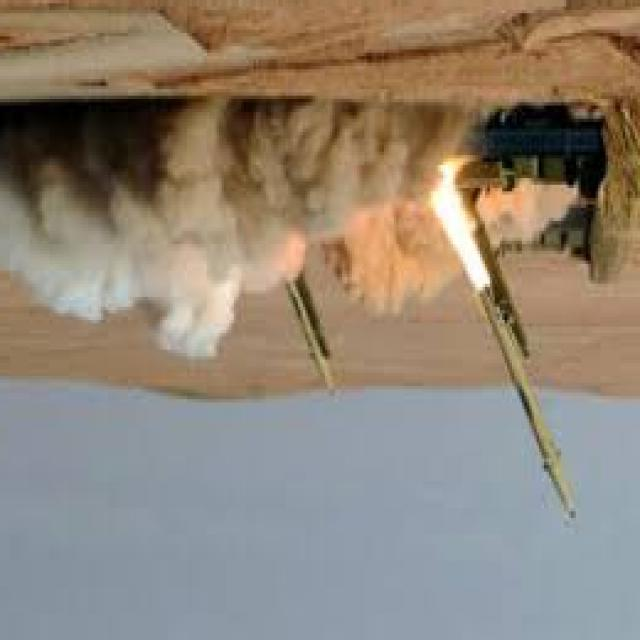Missile: (470, 282, 583, 522), (288, 271, 340, 403)
